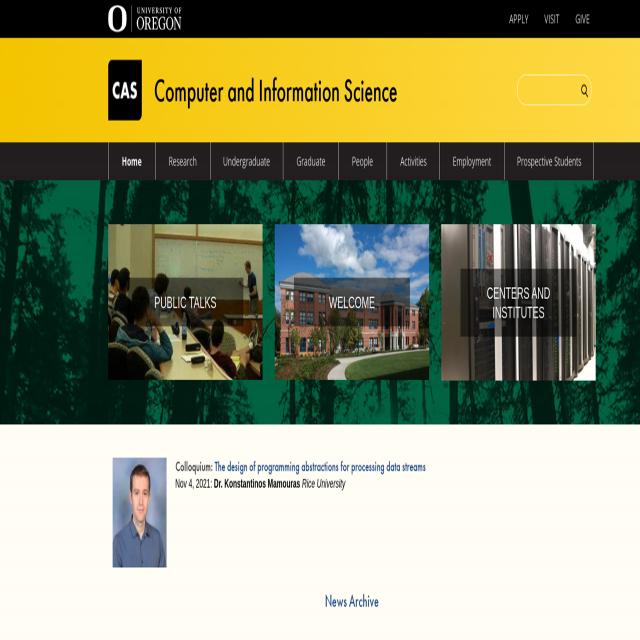button: (441, 224, 596, 380), (108, 224, 263, 380), (275, 224, 429, 380), (113, 458, 167, 568), (504, 143, 594, 180), (210, 143, 283, 180), (440, 143, 504, 180), (108, 60, 143, 121), (283, 143, 338, 180), (156, 143, 210, 180), (108, 5, 182, 32), (386, 143, 439, 180), (108, 143, 156, 180), (338, 143, 386, 180), (580, 82, 589, 99)
field: (517, 76, 591, 106)
